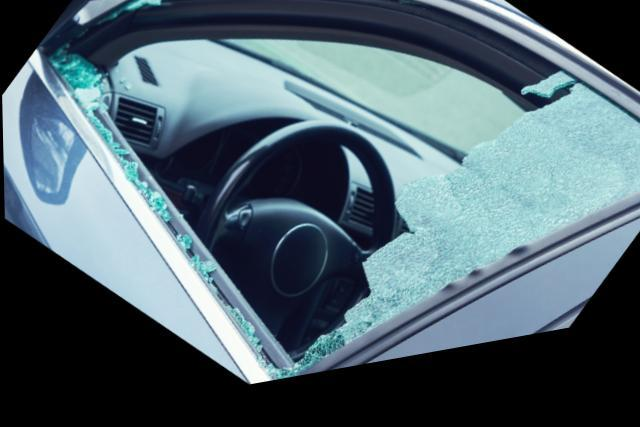glass shatter: (41, 0, 640, 389)
